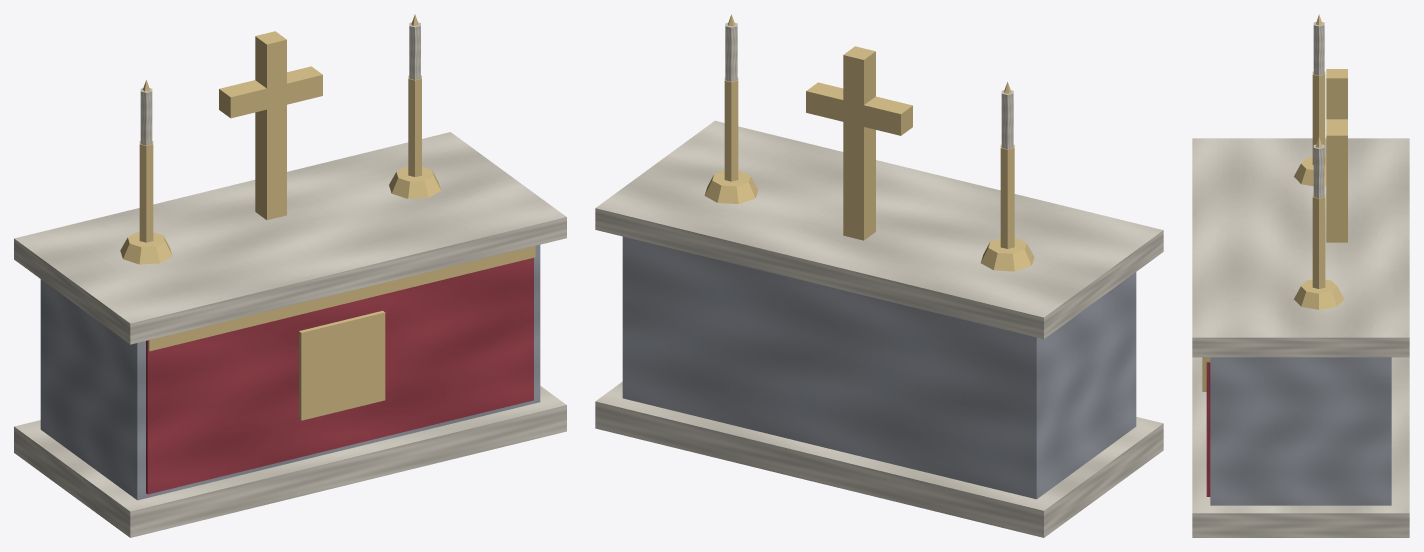
The picture shows the model from 3 angles, left to right: view 1: azimuth 30°, elevation 25°; view 2: azimuth 150°, elevation 25°; view 3: azimuth 270°, elevation 25°; orthographic projection. The views are drawn at different scales.
Parts seen in each view (by area): view 1: altar; view 2: altar; view 3: altar.
Part boxes in pixels (x1,y1,x2,y2): altar: [14, 14, 566, 537]; altar: [595, 14, 1163, 537]; altar: [1192, 14, 1409, 537].
Bounding box in the file's own units: 2.6 × 2.22 × 1.2.
Materials: 4 (3 with a texture image).
